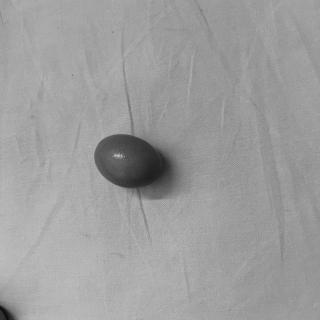Telur: (93, 133, 167, 191)
